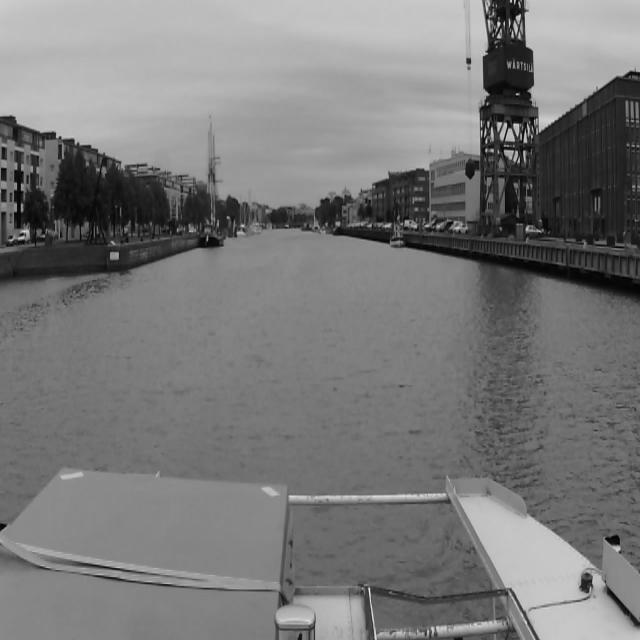ship: (200, 113, 226, 250), (389, 217, 406, 248), (302, 222, 312, 232)
